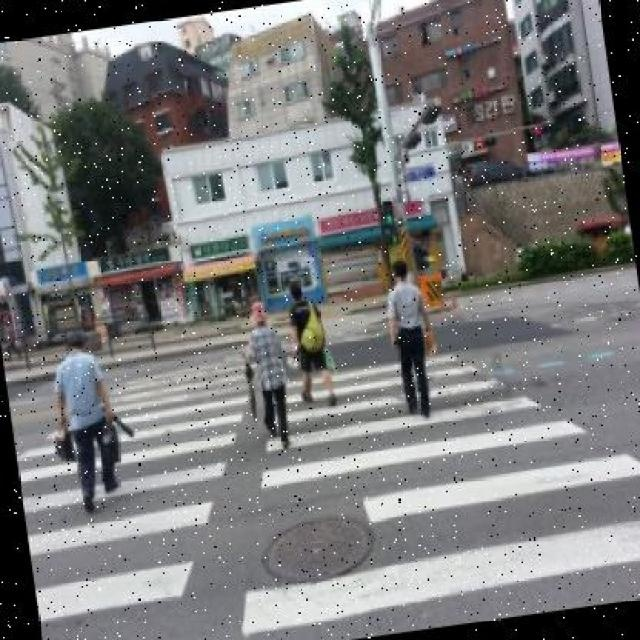obstacle: (44, 328, 128, 515), (381, 253, 444, 422), (237, 297, 301, 452), (284, 279, 339, 413)
